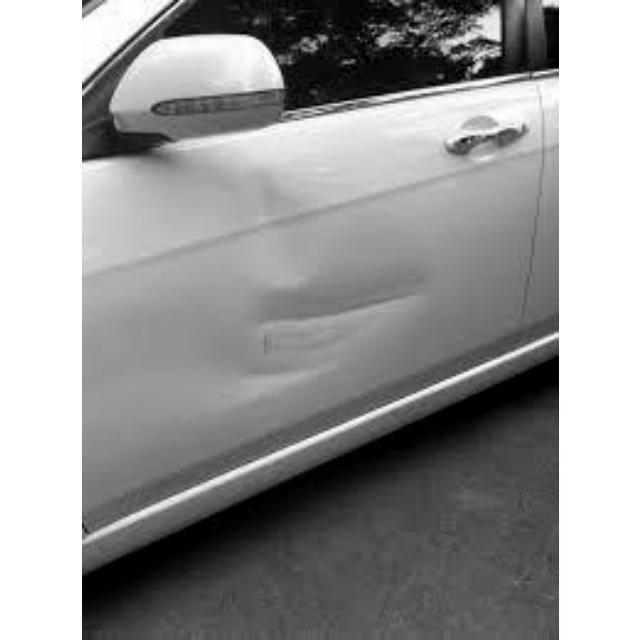doorouter-dent: (160, 148, 482, 482)
